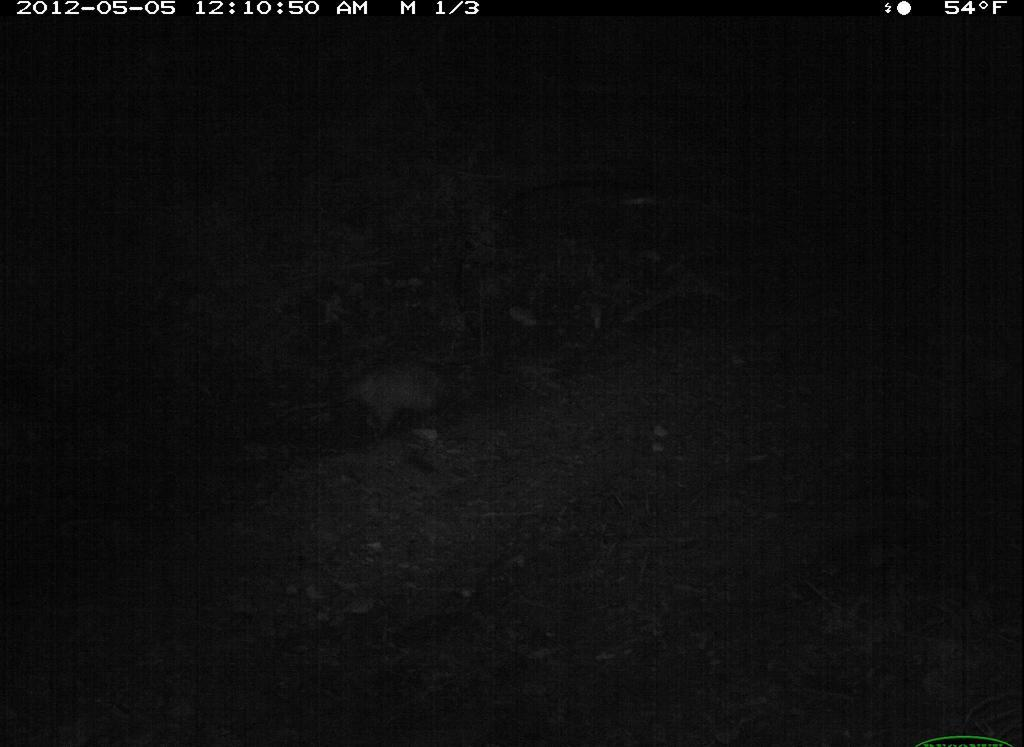opossum: (323, 341, 474, 447)
